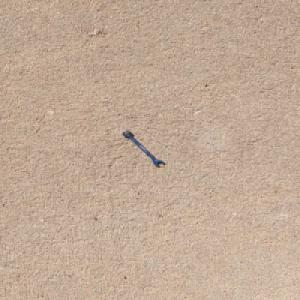Wrench: (122, 130, 166, 166)
